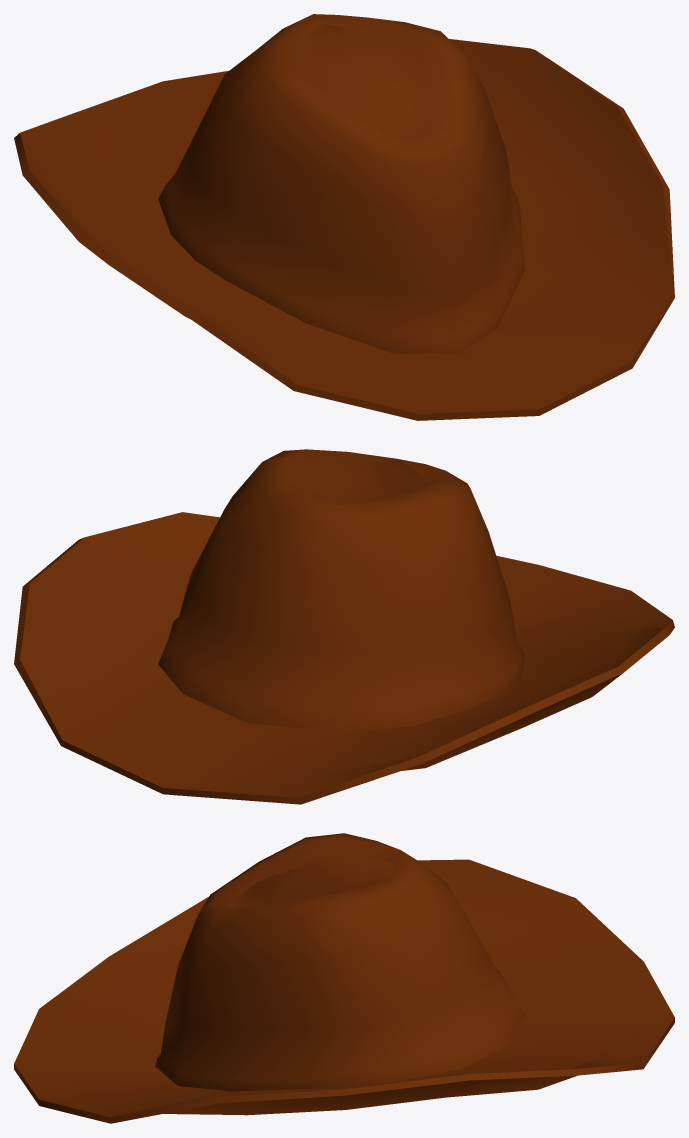
Rendered from sapka.fbx.
3 views of the same model, one above another, from view 1: azimuth 30°, elevation 25°; view 2: azimuth 150°, elevation 25°; view 3: azimuth 270°, elevation 25° (orthographic). The views are drawn at different scales.
Visible parts, largest first — view 1: kowboy.001; view 2: kowboy.001; view 3: kowboy.001.
Boxes of the visible parts, x1,y1,x2,y2 form: kowboy.001: [14, 14, 674, 420]; kowboy.001: [14, 449, 674, 804]; kowboy.001: [14, 833, 674, 1123].
Bounding box in the file's own units: 308 × 130 × 369.
